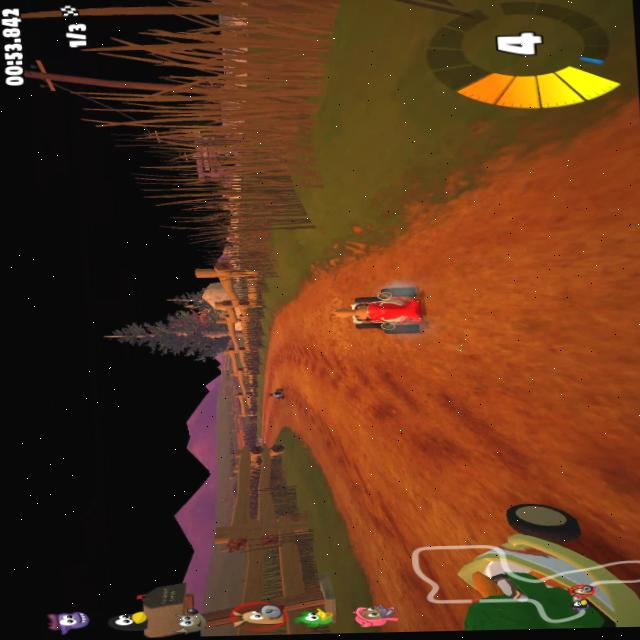enemy_kart: (262, 382, 292, 405)
player_kart: (321, 267, 437, 346)
track: (452, 135, 640, 492), (324, 340, 476, 493), (355, 490, 476, 575), (304, 282, 333, 451), (430, 202, 459, 335), (258, 321, 303, 379), (291, 372, 320, 407), (249, 415, 278, 444), (277, 406, 301, 429)
